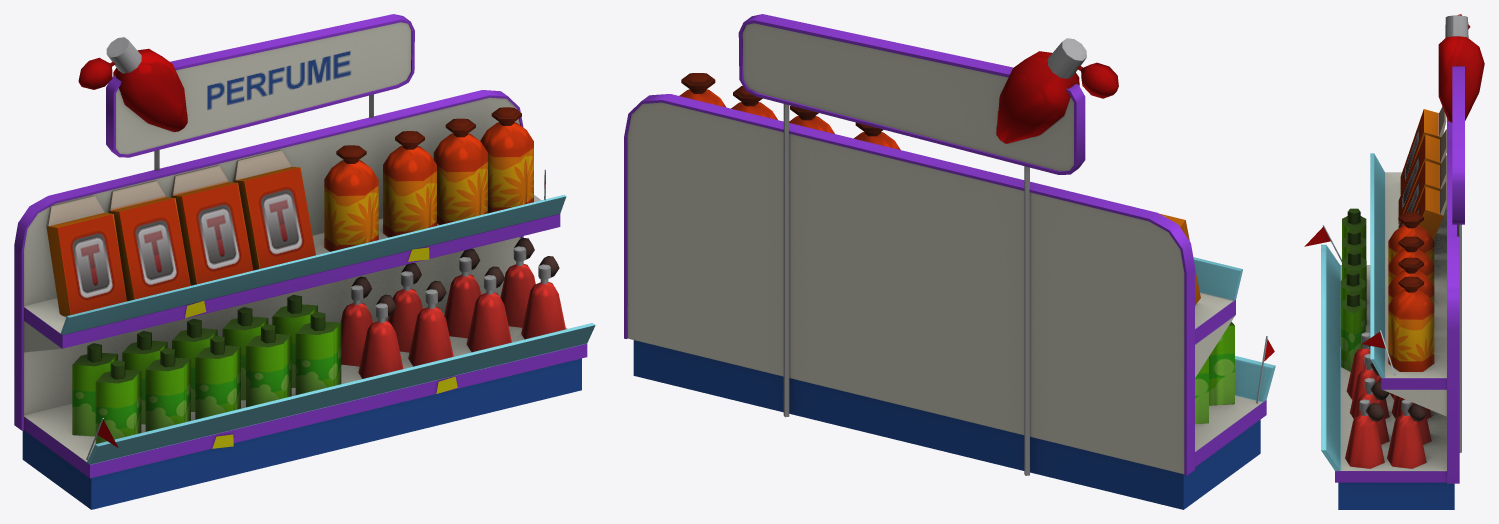
File: interior_shelf_perfume_001_mesh.FBX
The picture shows the model from 3 angles, left to right: view 1: azimuth 30°, elevation 25°; view 2: azimuth 150°, elevation 25°; view 3: azimuth 270°, elevation 25°; orthographic projection. The views are drawn at different scales.
Parts seen in each view (by area): view 1: interior_shelf_perfume_001_gr; view 2: interior_shelf_perfume_001_gr; view 3: interior_shelf_perfume_001_gr.
Part boxes in pixels (left/top/right/bottom): interior_shelf_perfume_001_gr: left=14, top=14, right=595, bottom=509; interior_shelf_perfume_001_gr: left=624, top=14, right=1275, bottom=509; interior_shelf_perfume_001_gr: left=1304, top=14, right=1484, bottom=509.
Size of the model in its own units: 29.58 by 22.23 by 10.86.
